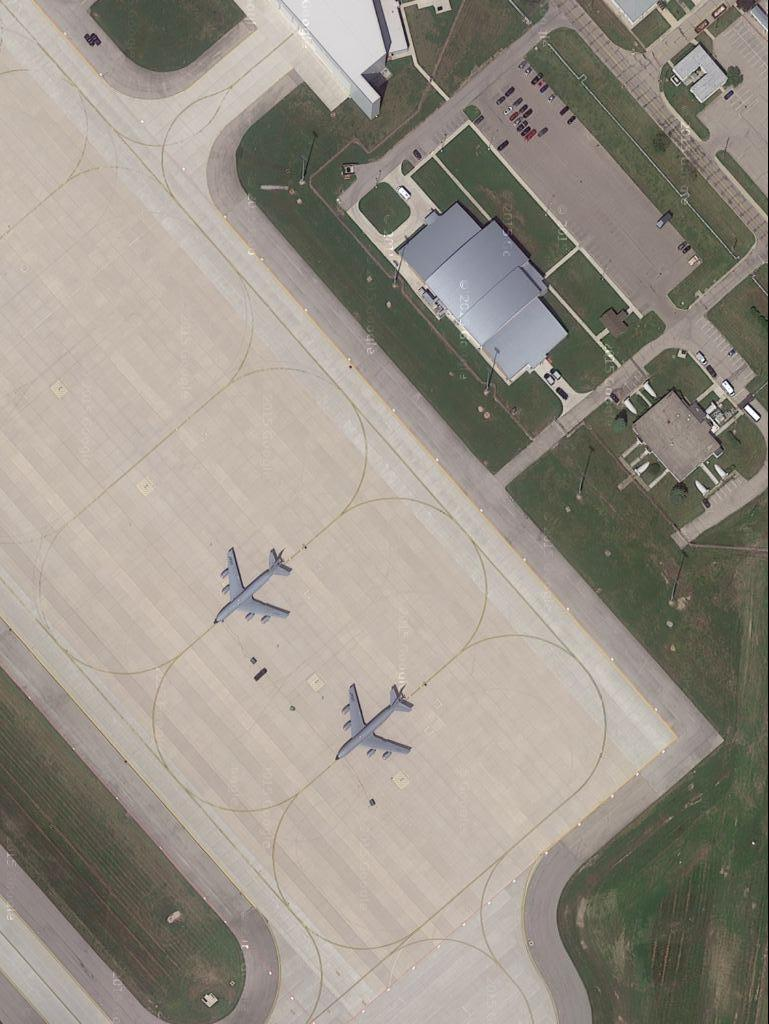KC-135: (208, 544, 293, 632), (330, 681, 420, 763)
